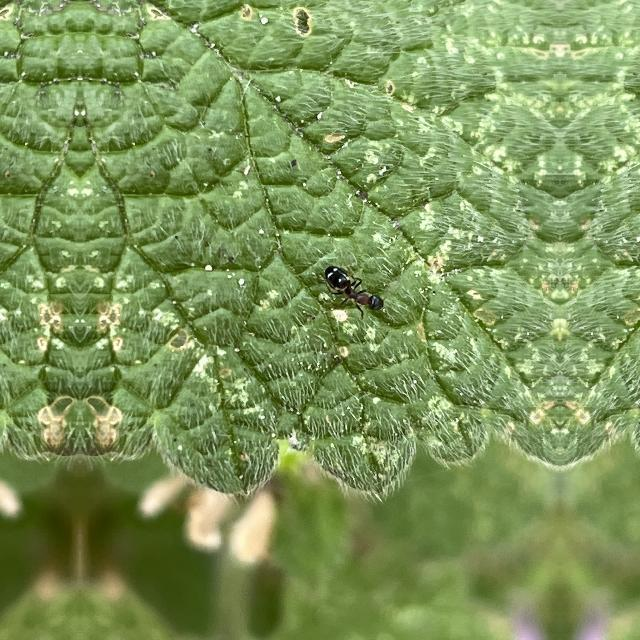Dolichoderus: (315, 249, 393, 323)
